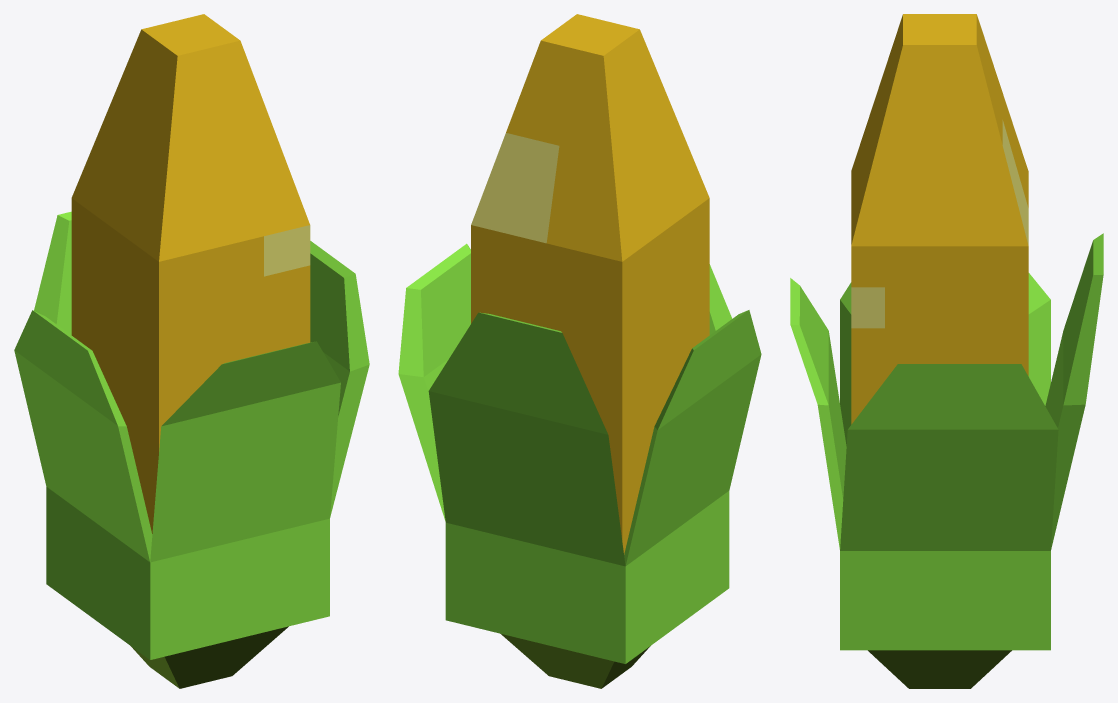
The model's file is corn.glb.
The picture shows the model from 3 angles, left to right: view 1: azimuth 30°, elevation 25°; view 2: azimuth 150°, elevation 25°; view 3: azimuth 270°, elevation 25°; orthographic projection.
Visible parts, largest first — view 1: Corn; view 2: Corn; view 3: Corn.
Boxes of the visible parts, x1,y1,x2,y2 form: Corn: (14, 14, 369, 688); Corn: (398, 14, 761, 688); Corn: (790, 14, 1103, 688).
Bounding box in the file's own units: 0.5456 × 1.21 × 0.5297.
